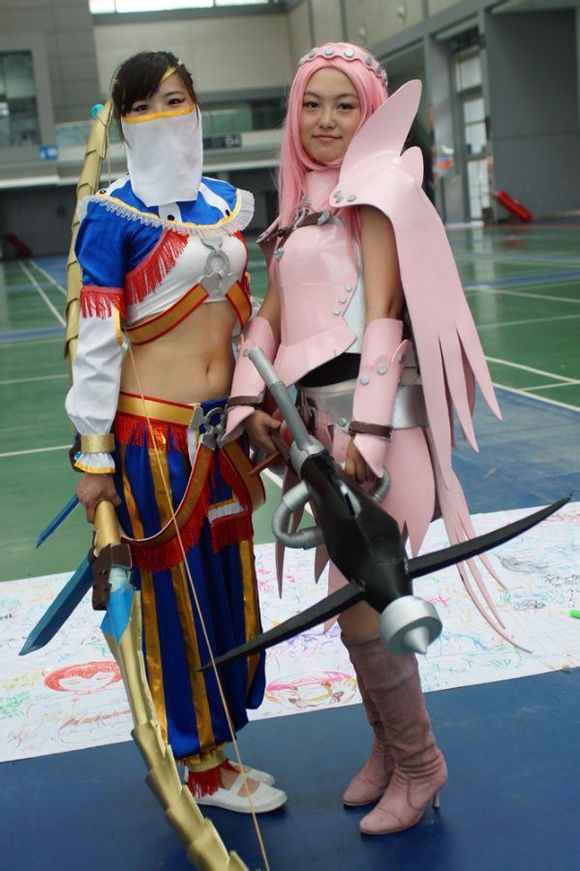face_mask: (120, 70, 196, 163), (298, 65, 361, 163)
